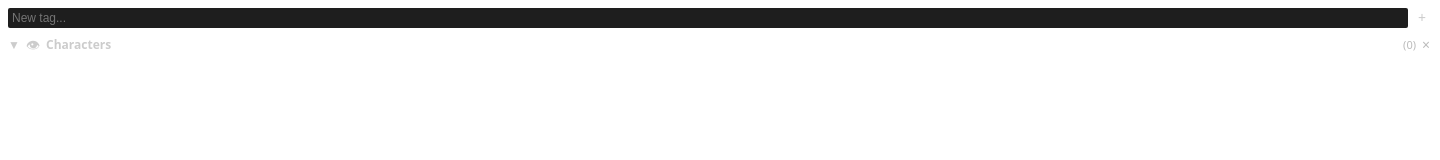
Scenario: TagsTabContent › double-clicking heading starts rename
The width and height of the screenshot is (1440, 160).
Double-click the element with test id "tag-heading-Characters": (79, 44) [0, 32, 1439, 58]
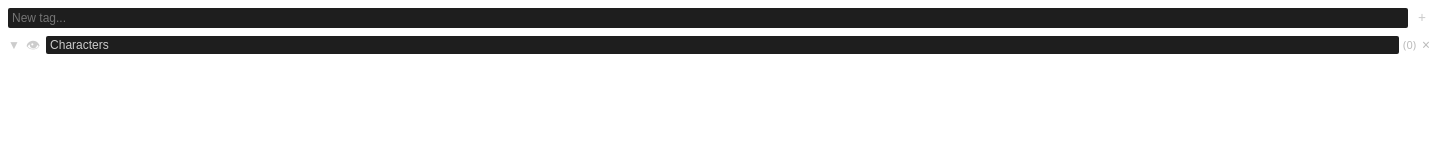
Expected: the field with test id "tag-rename-input-Characters" is shown, [46, 36, 1399, 54]
